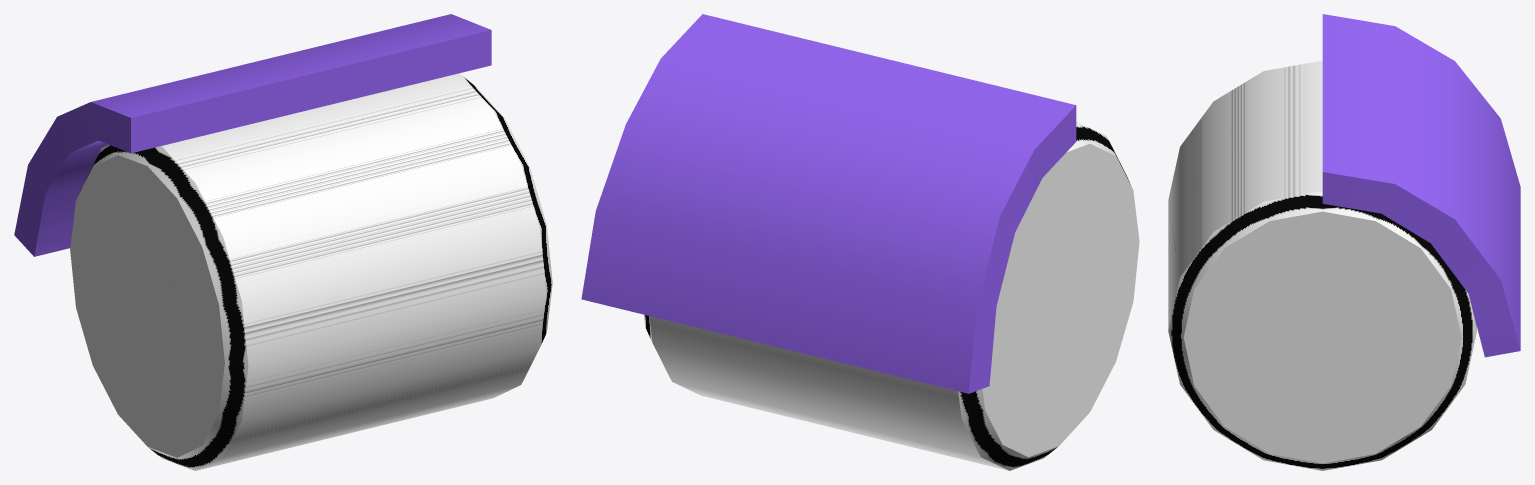
The model's file is sushi_note.fbx.
3 views of the same model, side by side, from view 1: azimuth 30°, elevation 25°; view 2: azimuth 150°, elevation 25°; view 3: azimuth 270°, elevation 25° (orthographic). The views are drawn at different scales.
Parts seen in each view (by area): view 1: Cylinder, Cylinder.004; view 2: Cylinder.004, Cylinder; view 3: Cylinder, Cylinder.004.
Part boxes in pixels (x1,y1,x2,y2): Cylinder: (70, 73, 552, 470); Cylinder.004: (14, 14, 491, 256); Cylinder.004: (581, 14, 1076, 393); Cylinder: (644, 122, 1139, 470); Cylinder: (1168, 60, 1476, 470); Cylinder.004: (1322, 14, 1520, 357).
Size of the model in its own units: 251 by 223 by 228.
Materials: 1 (1 with a texture image).
